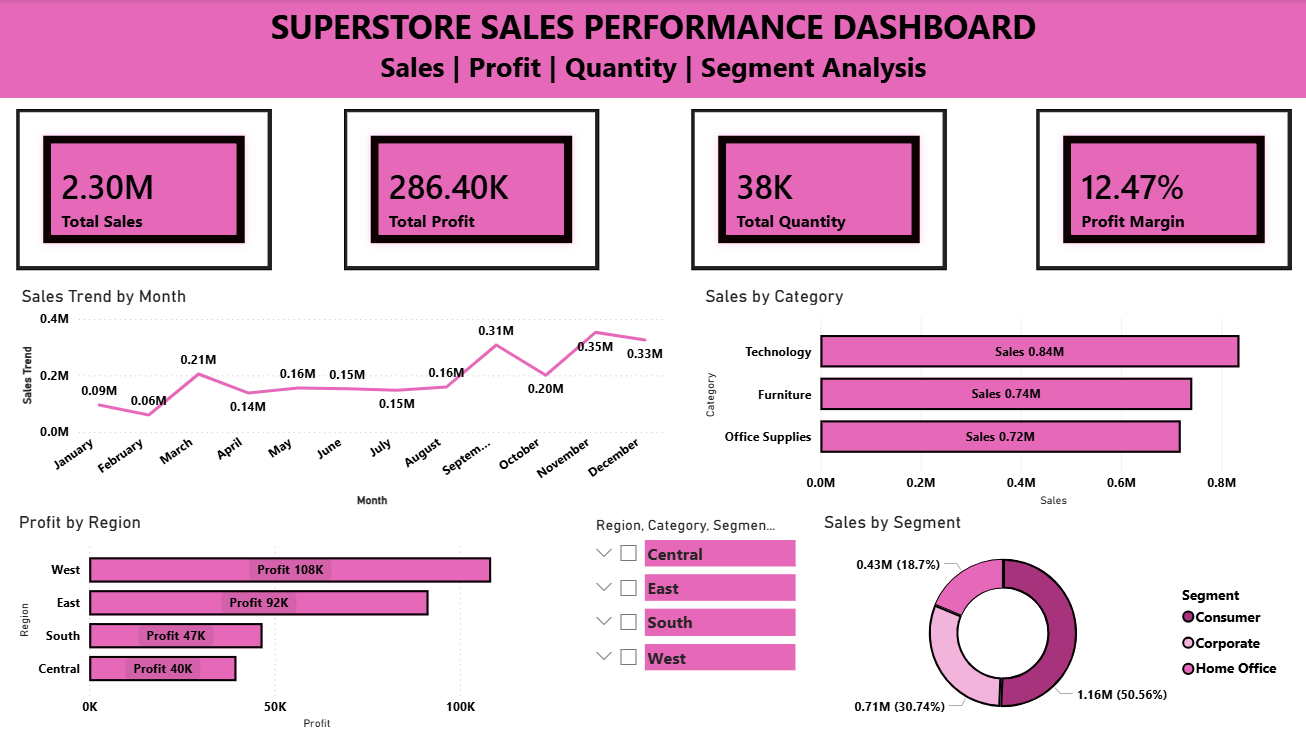

Layout of this report page (visuals, bound fields, positions):
{"tool":"powerbi","page":{"name":"Page 1","canvas":[1280,720],"ordinal":0},"visuals":[{"type":"cardVisual","fields":{"Data":["Sum(Orders.Sales)"]},"box":[17.1,107.6,249.5,157.7],"z":0},{"type":"cardVisual","fields":{"Data":["Sum(Orders.Profit)"]},"box":[337.5,107.6,249.5,157.7],"z":1000},{"type":"cardVisual","fields":{"Data":["Sum(Orders.Quantity)"]},"box":[677.4,107.6,249.5,157.7],"z":2000},{"type":"cardVisual","fields":{"Data":["Orders.Profit_Margin"]},"box":[1015,107.6,249.5,157.7],"z":3000},{"type":"slicer","fields":{"Values":["Orders.Region","Orders.Category","Orders.Segment","Orders.Order Date"]},"box":[571.1,501.4,212.8,218.9],"z":4000},{"type":"lineChart","fields":{"Category":["Orders.Order Date.Variation.Date Hierarchy.Month"],"Y":["Sum(Orders.Sales)"]},"box":[17.1,280,639.5,221.3],"z":6000},{"type":"barChart","fields":{"Category":["Orders.Category"],"Y":["Sum(Orders.Sales)"]},"box":[686,280,594.3,221.3],"z":7000},{"type":"barChart","fields":{"Category":["Orders.Region"],"Y":["Sum(Orders.Profit)"]},"box":[14.9,501.1,539.3,218.9],"z":8000},{"type":"donutChart","fields":{"Category":["Orders.Segment"],"Y":["Sum(Orders.Sales)"]},"box":[802.2,501.4,462.2,218.9],"z":9000},{"type":"textbox","box":[0,0,1280.3,96.6],"z":9001}]}

Visuals, with their boxes in screenshot pixels (x1, y1, x2, y2), scaled from the page's 1280x720 canvas onto the 1306x733 screenshot:
cardVisual - Sum(Orders.Sales): x1=17 y1=110 x2=272 y2=270
cardVisual - Sum(Orders.Profit): x1=344 y1=110 x2=599 y2=270
cardVisual - Sum(Orders.Quantity): x1=691 y1=110 x2=946 y2=270
cardVisual - Orders.Profit_Margin: x1=1036 y1=110 x2=1290 y2=270
slicer - Orders.Region x Orders.Category: x1=583 y1=510 x2=800 y2=732
lineChart - Orders.Order Date.Variation.Date Hierarchy.Month x Sum(Orders.Sales): x1=17 y1=285 x2=670 y2=510
barChart - Orders.Category x Sum(Orders.Sales): x1=700 y1=285 x2=1305 y2=510
barChart - Orders.Region x Sum(Orders.Profit): x1=15 y1=510 x2=565 y2=732
donutChart - Orders.Segment x Sum(Orders.Sales): x1=818 y1=510 x2=1290 y2=732
textbox: x1=0 y1=0 x2=1305 y2=98
